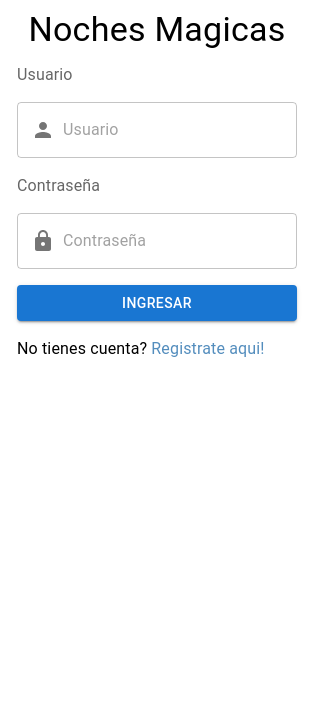
LoginView › should render the signup form when switching
The image size is (320, 707).
Click the text "Registrate aqui!" at (208, 349), box [151, 339, 265, 358]
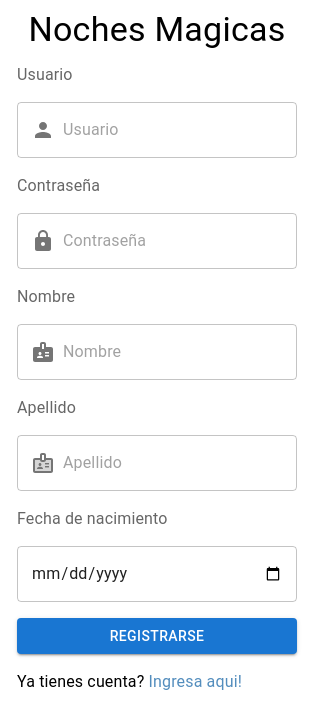
Result: the button "Registrarse" is shown at [17, 618, 297, 654]
Result: the field labelled "Nombre" is shown at [63, 324, 297, 380]
Result: the field labelled "Apellido" is shown at [63, 435, 297, 491]
